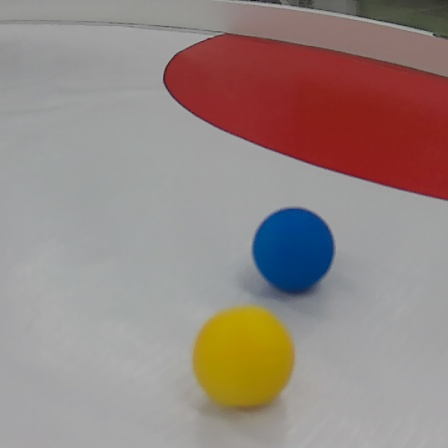blue: (252, 206, 340, 292)
red_base: (168, 9, 447, 196)
yellow: (190, 303, 298, 412)
